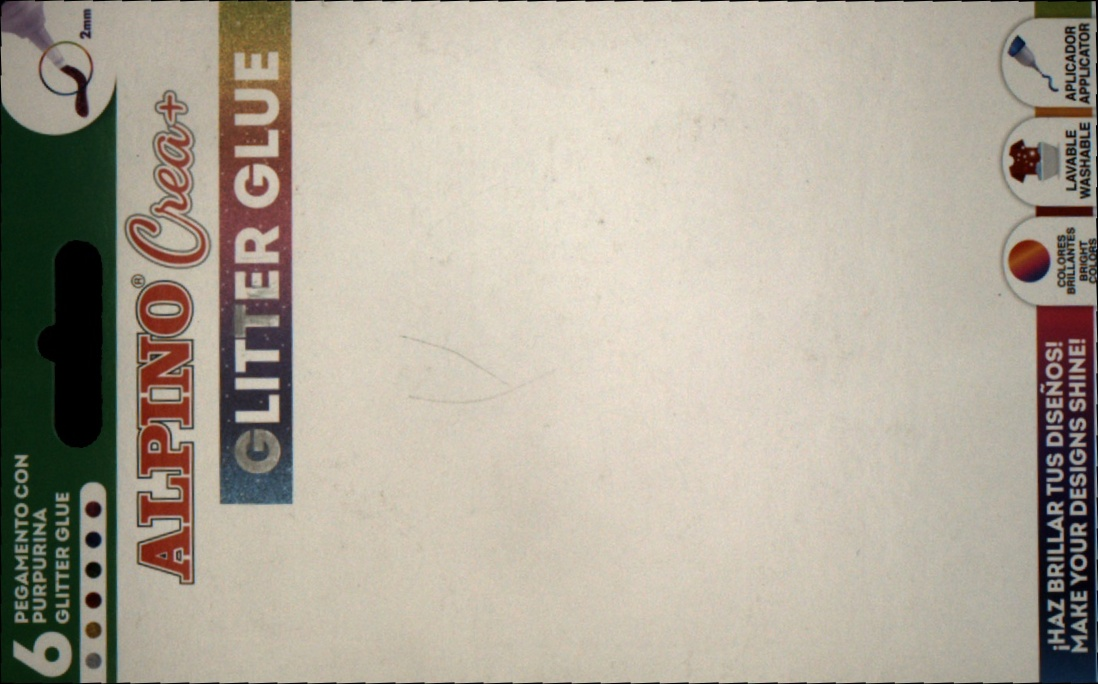scratch: (384, 328, 561, 417)
